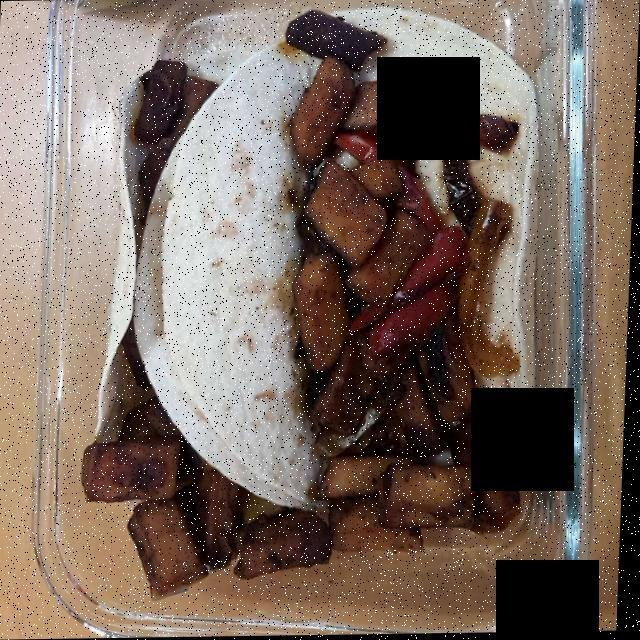bell-pepper: (338, 120, 525, 383)
bread: (96, 10, 538, 493)
tofu: (85, 25, 527, 597)
